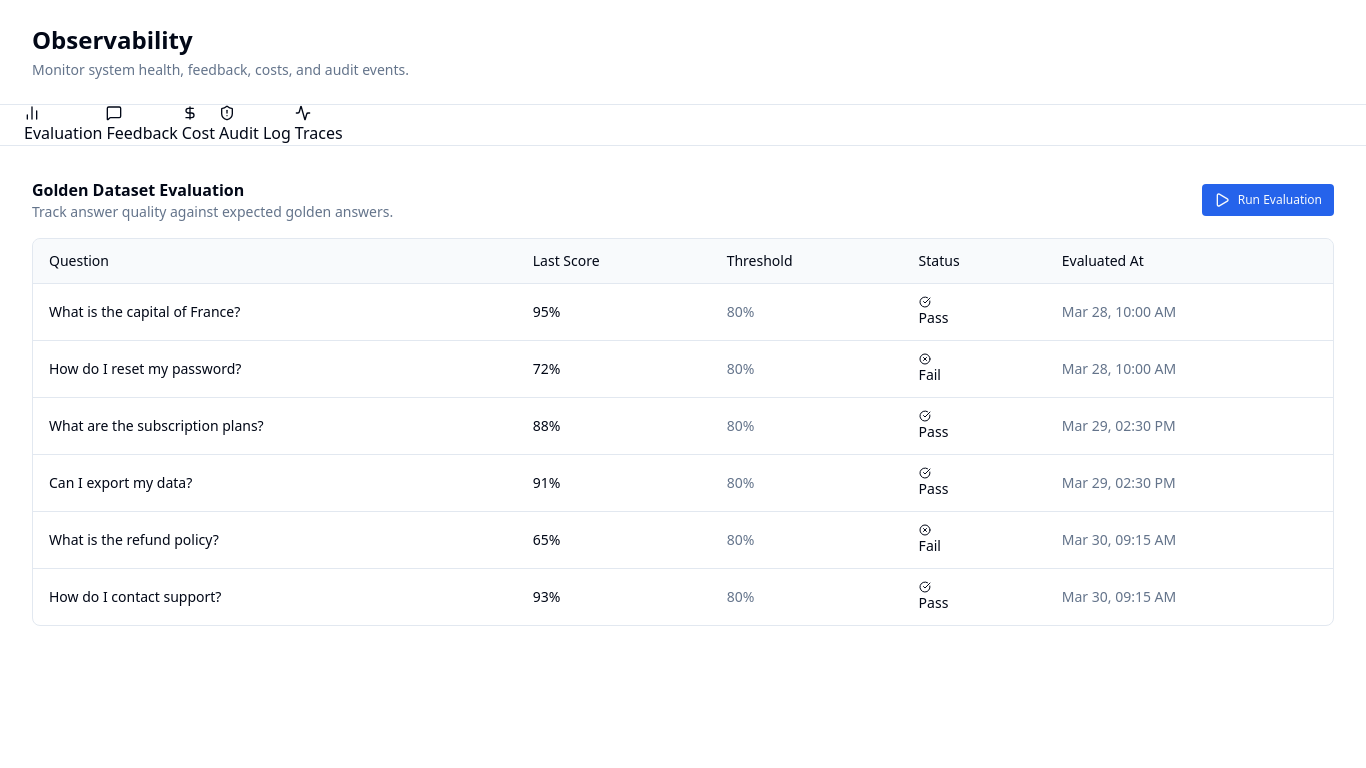
Test case: ObservabilityPage — admin visibility › admin can switch to audit tab
Step 1. Click the button "Audit Log" → (255,125), box [219,105,291,145]
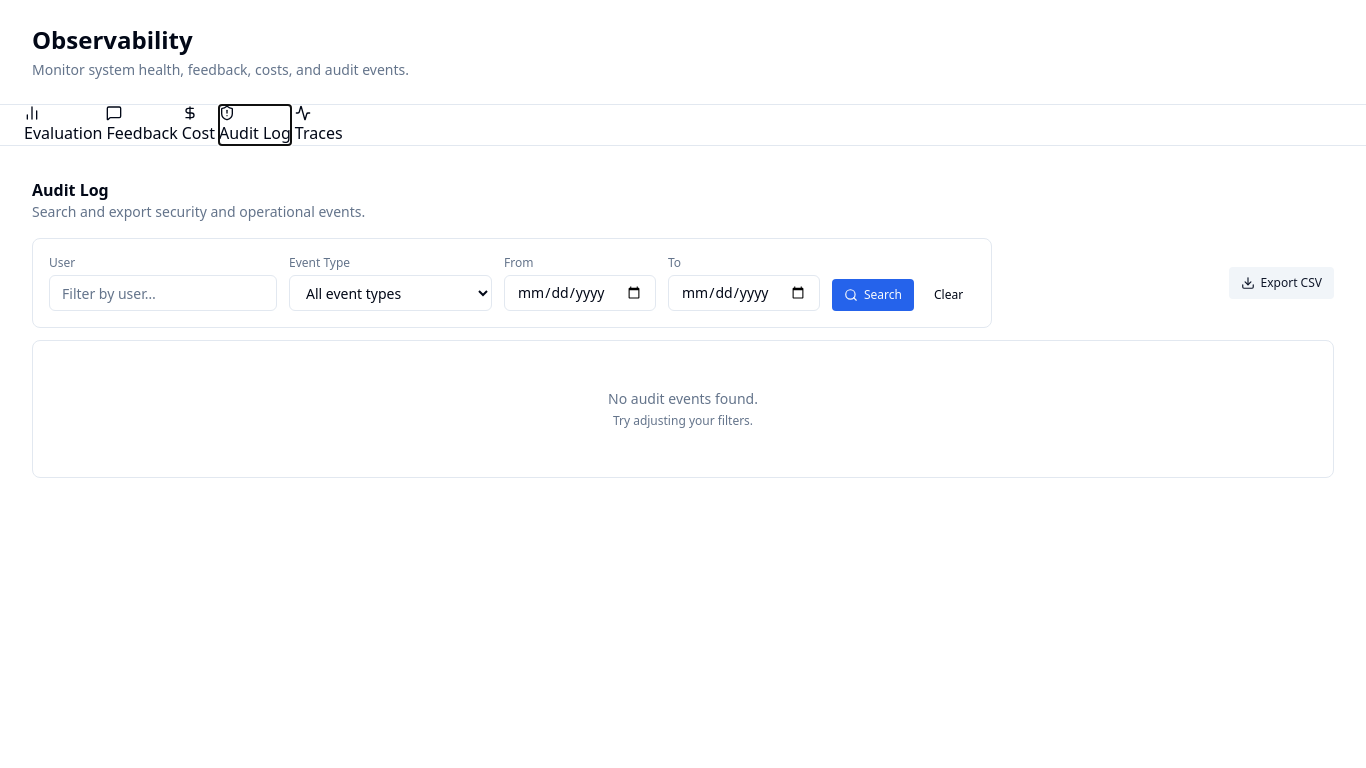
Expected: the heading "Audit Log" is shown, [32,179,109,201]
Expected: the text "Search and export security and operational events." is shown, [32,202,365,221]
